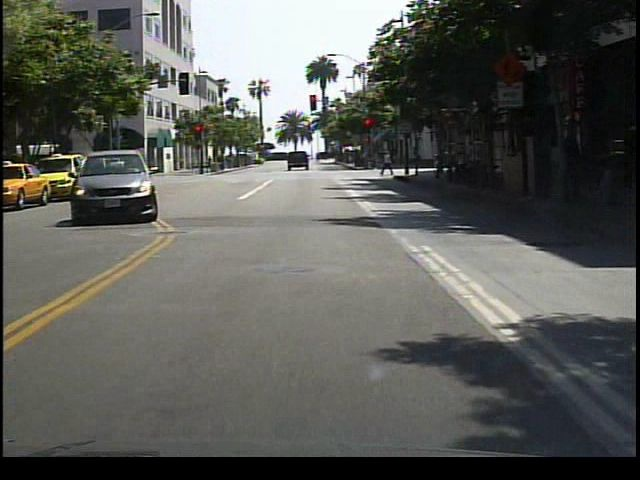person: (411, 143, 427, 174), (381, 150, 397, 176)
